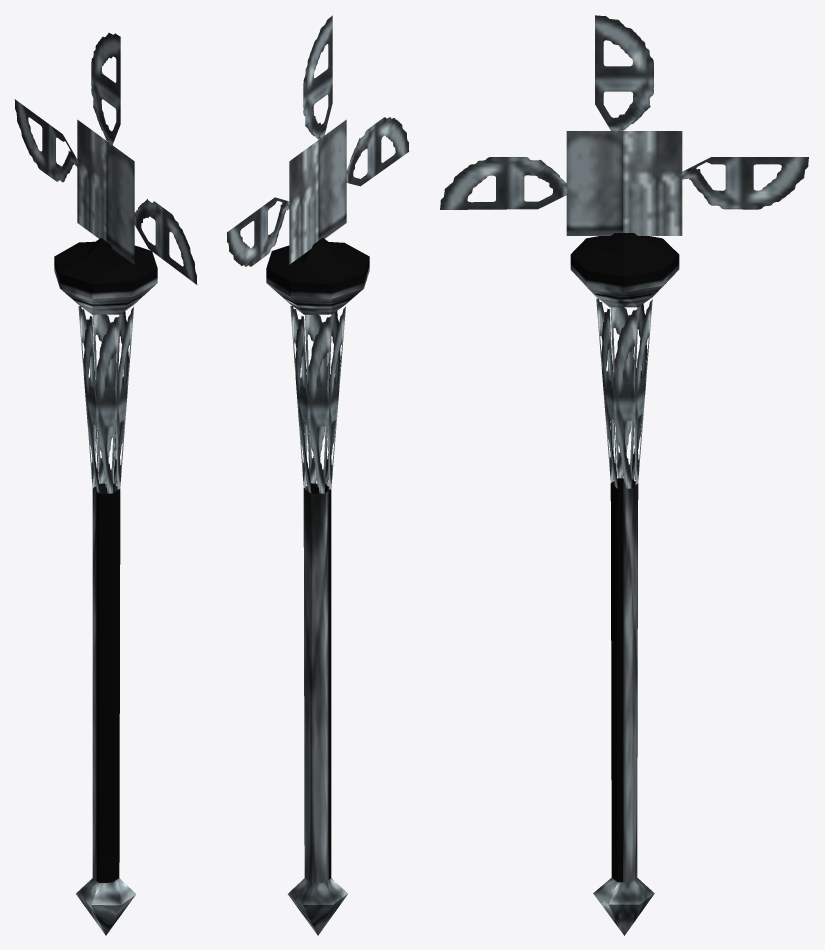
File: wavemaster04_1.obj
3 renders of one model, left to right at view 1: azimuth 30°, elevation 25°; view 2: azimuth 150°, elevation 25°; view 3: azimuth 270°, elevation 25°, orthographic.
Visible parts, largest first — view 1: wavemaster04_1; view 2: wavemaster04_1; view 3: wavemaster04_1.
Part boxes in pixels (x1,y1,x2,y2): wavemaster04_1: (14, 33, 197, 935); wavemaster04_1: (227, 15, 409, 935); wavemaster04_1: (440, 15, 808, 935).
Size of the model in its own units: 0.1375 by 1.3 by 0.475.
